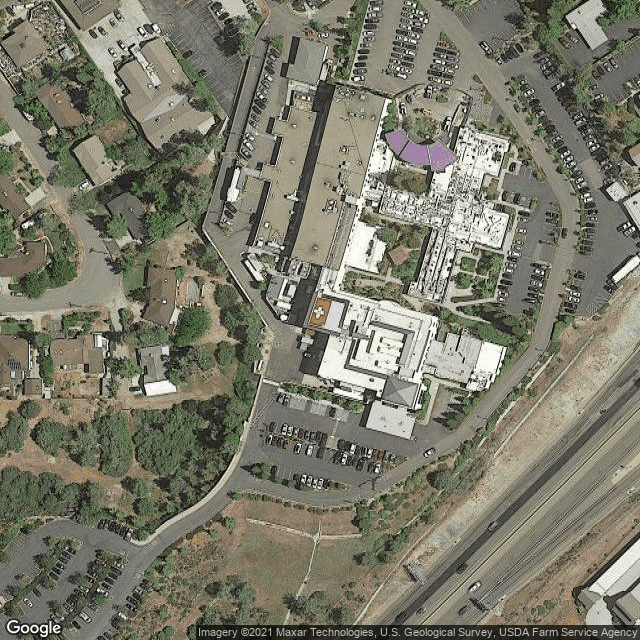Helipad: (303, 296, 336, 327)
